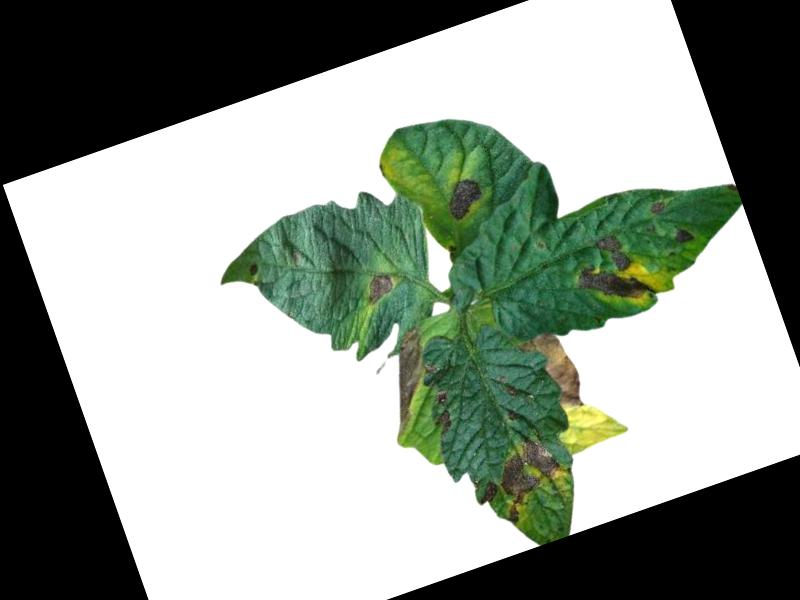Early_blight: (363, 325, 447, 436), (564, 225, 657, 318), (483, 433, 573, 527), (514, 324, 589, 419), (440, 174, 487, 224), (356, 265, 399, 306), (427, 389, 458, 436), (471, 479, 502, 510), (668, 224, 695, 247), (646, 197, 667, 216), (245, 259, 261, 277)
